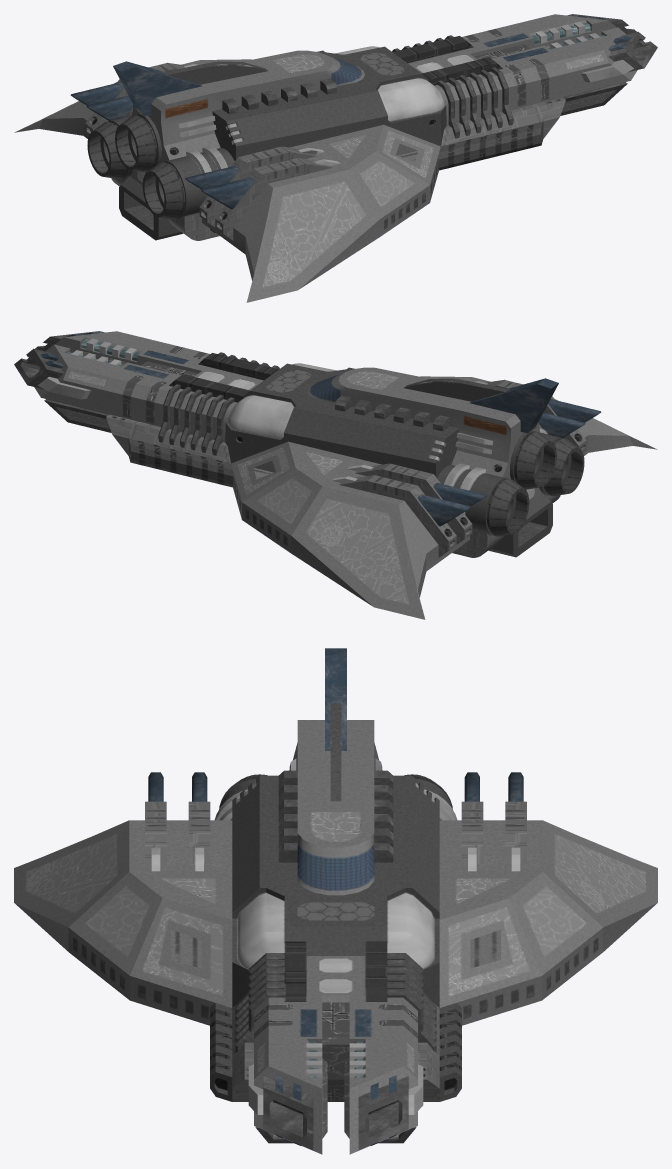
Rendered from carrier01.obj.
The picture shows the model from 3 angles, top to bottom: view 1: azimuth 30°, elevation 25°; view 2: azimuth 150°, elevation 25°; view 3: azimuth 270°, elevation 25°; orthographic projection. The views are drawn at different scales.
Parts seen in each view (by area): view 1: Mesh_LP_Mesh; view 2: Mesh_LP_Mesh; view 3: Mesh_LP_Mesh.
Boxes of the visible parts, x1,y1,x2,y2 form: Mesh_LP_Mesh: (14,14,657,302); Mesh_LP_Mesh: (14,331,657,619); Mesh_LP_Mesh: (14,648,657,1154).
Size of the model in its own units: 117 by 34.88 by 88.5.
Materials: 1 (1 with a texture image).
